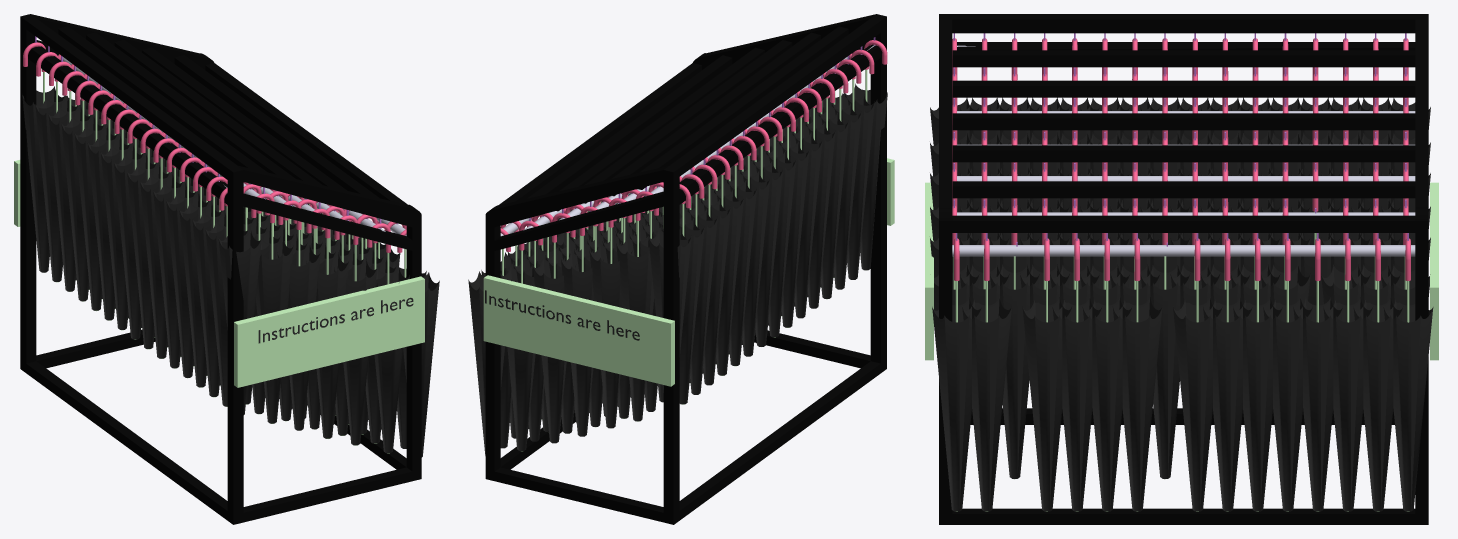
Rendered from station-v1-1.glb.
3 views of the same model, side by side, from view 1: azimuth 30°, elevation 25°; view 2: azimuth 150°, elevation 25°; view 3: azimuth 270°, elevation 25° (orthographic). The views are drawn at different scales.
Parts seen in each view (by area): view 1: Cube001_1, Cube001, Cube001_4, Cube001_2, Cube001_6, Text; view 2: Cube001_1, Cube001, Cube001_4, Cube001_2, Cube001_6, Text; view 3: Cube001_1, Cube001, Cube001_2, Cube001_6, Cube001_4, Cube001_5.
Part boxes in pixels (left/top/right/bottom): Cube001_1: left=22, top=86, right=439, bottom=457; Cube001: left=20, top=14, right=421, bottom=524; Cube001_4: left=14, top=72, right=424, bottom=453; Cube001_2: left=23, top=42, right=406, bottom=252; Cube001_6: left=63, top=57, right=406, bottom=235; Text: left=258, top=297, right=413, bottom=343; Cube001_1: left=468, top=83, right=887, bottom=455; Cube001: left=485, top=14, right=886, bottom=524; Cube001_4: left=483, top=69, right=894, bottom=451; Cube001_2: left=500, top=40, right=887, bottom=251; Cube001_6: left=500, top=45, right=875, bottom=236; Text: left=485, top=290, right=639, bottom=340; Cube001_1: left=930, top=97, right=1433, bottom=511; Cube001: left=939, top=14, right=1428, bottom=524; Cube001_2: left=952, top=38, right=1410, bottom=280; Cube001_6: left=952, top=45, right=1415, bottom=256; Cube001_4: left=925, top=182, right=1438, bottom=511; Cube001_5: left=953, top=33, right=1408, bottom=246.
Bounding box in the file's own units: 1.17 × 1.83 × 2.12.
